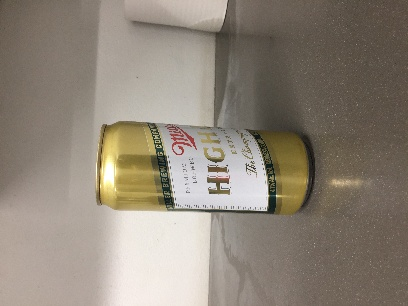ML: (71, 88, 228, 157)
